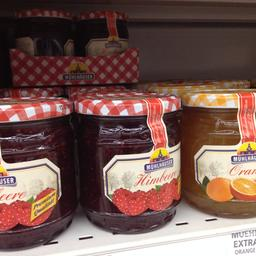jam: (72, 90, 182, 236), (0, 95, 74, 249), (180, 88, 254, 218), (12, 7, 74, 57), (76, 10, 130, 56)
